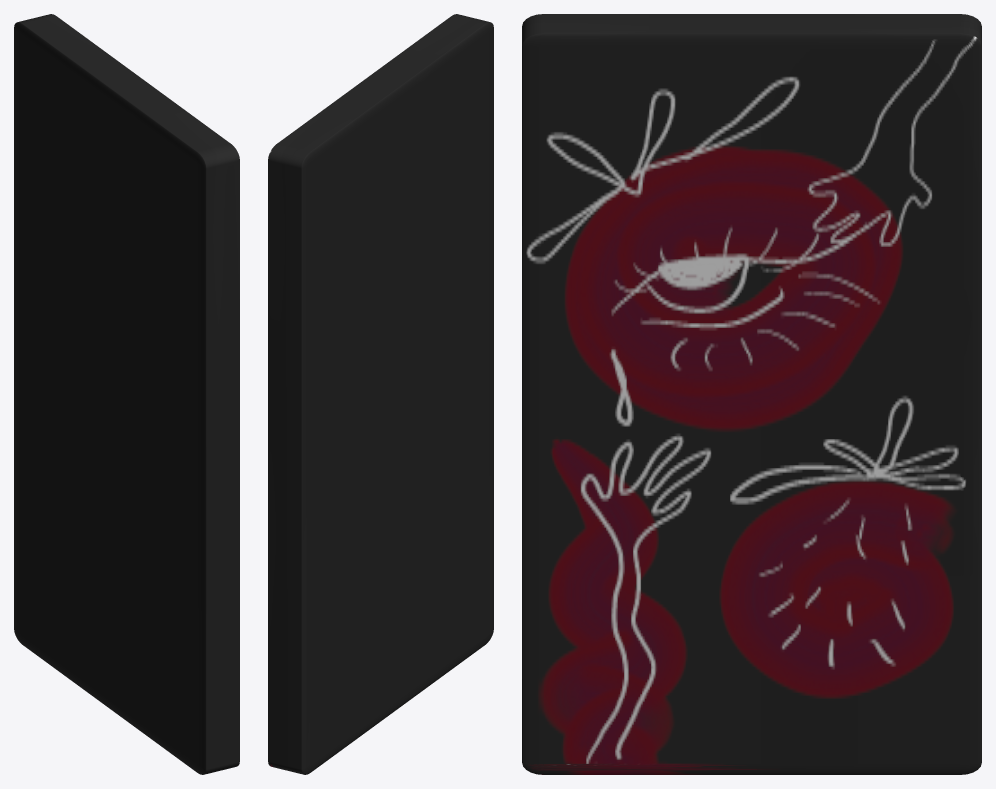
3 views of the same model, side by side, from view 1: azimuth 30°, elevation 25°; view 2: azimuth 150°, elevation 25°; view 3: azimuth 270°, elevation 25° (orthographic). The views are drawn at different scales.
Parts seen in each view (by area): view 1: pCube4; view 2: pCube4; view 3: pCube4.
Part boxes in pixels (box(x1,y1,x2,y2)): pCube4: box(14, 14, 239, 774); pCube4: box(268, 14, 493, 774); pCube4: box(522, 14, 981, 774).
Bounding box in the file's own units: 0.9273 × 14.98 × 8.42.
1 material, 1 textured.
